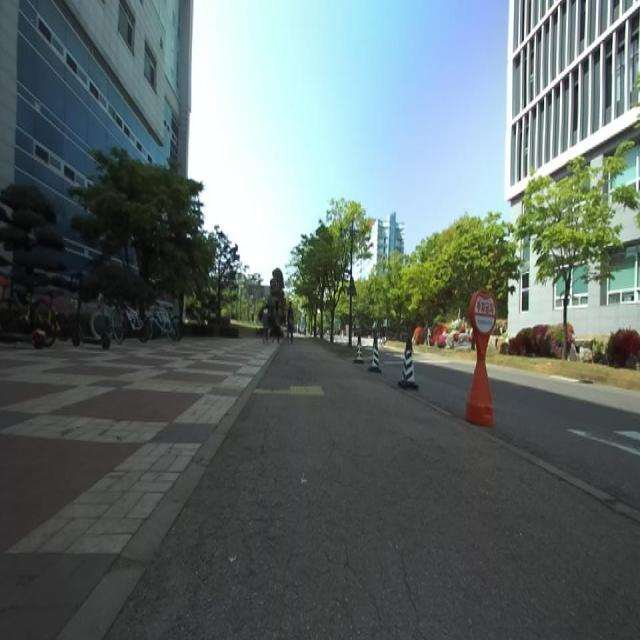sidewalk: (60, 341, 640, 639)
